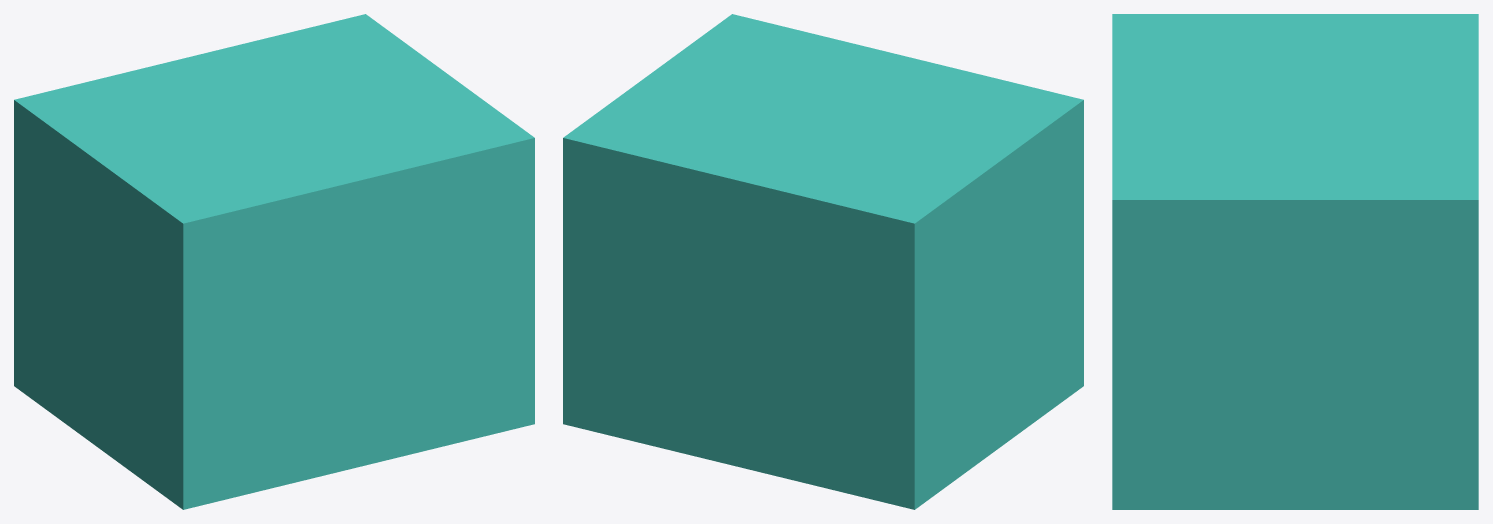
3 renders of one model, left to right at view 1: azimuth 30°, elevation 25°; view 2: azimuth 150°, elevation 25°; view 3: azimuth 270°, elevation 25°, orthographic. The views are drawn at different scales.
Size of the model in its own units: 0.9 by 0.7 by 0.75.
